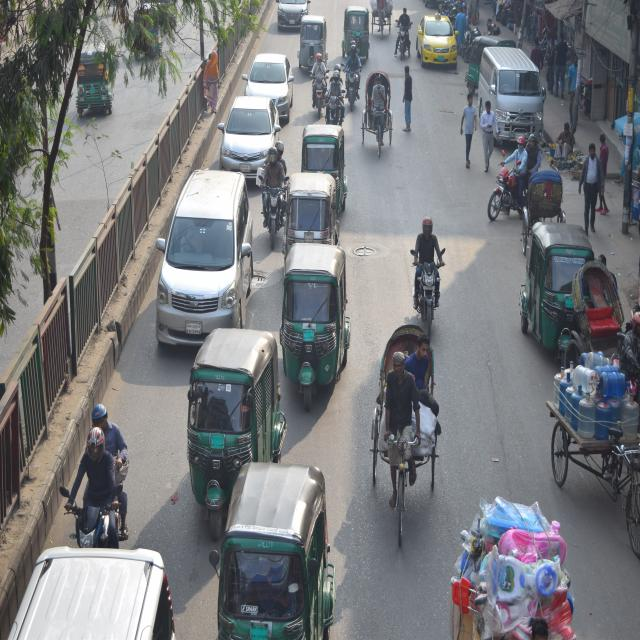car: (214, 98, 279, 177), (248, 48, 296, 126)
microbus: (153, 154, 243, 353), (476, 51, 552, 152)
motorbike: (66, 404, 126, 557), (409, 209, 446, 335), (260, 139, 294, 256), (323, 64, 349, 123), (346, 48, 366, 106), (310, 48, 326, 109)
